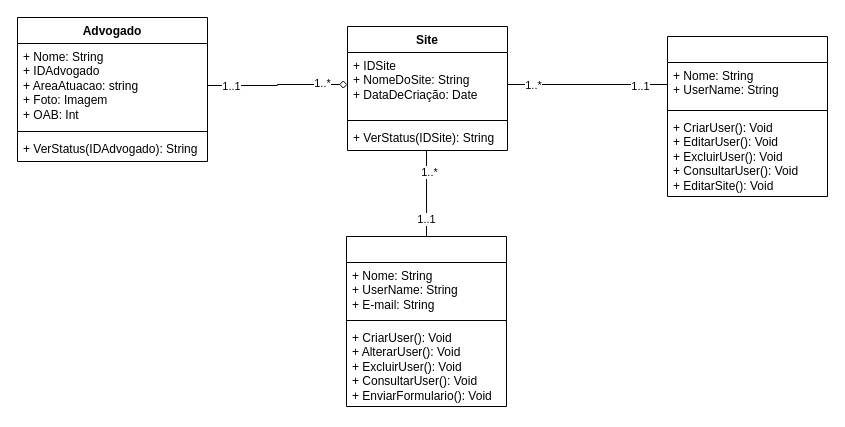
Some shapes in this 845 by 427 pixel diagram are drawn without their labels. Each missing label, with the box of its shape:
Administrador: (666, 36, 828, 196)
Usuário: (346, 236, 506, 406)
